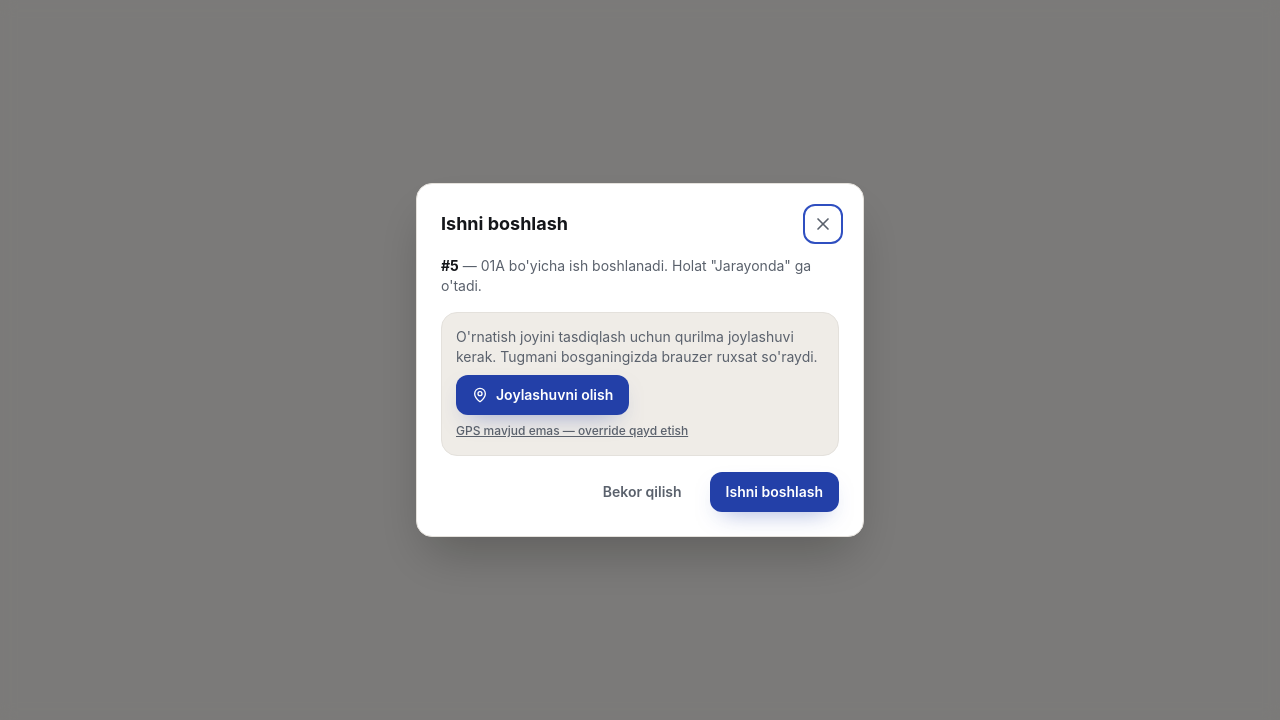
it: an authorized user records a GPS override WITH a reason
Click the button "GPS mavjud emas — override qayd etish": (572, 431) [456,423,688,439]
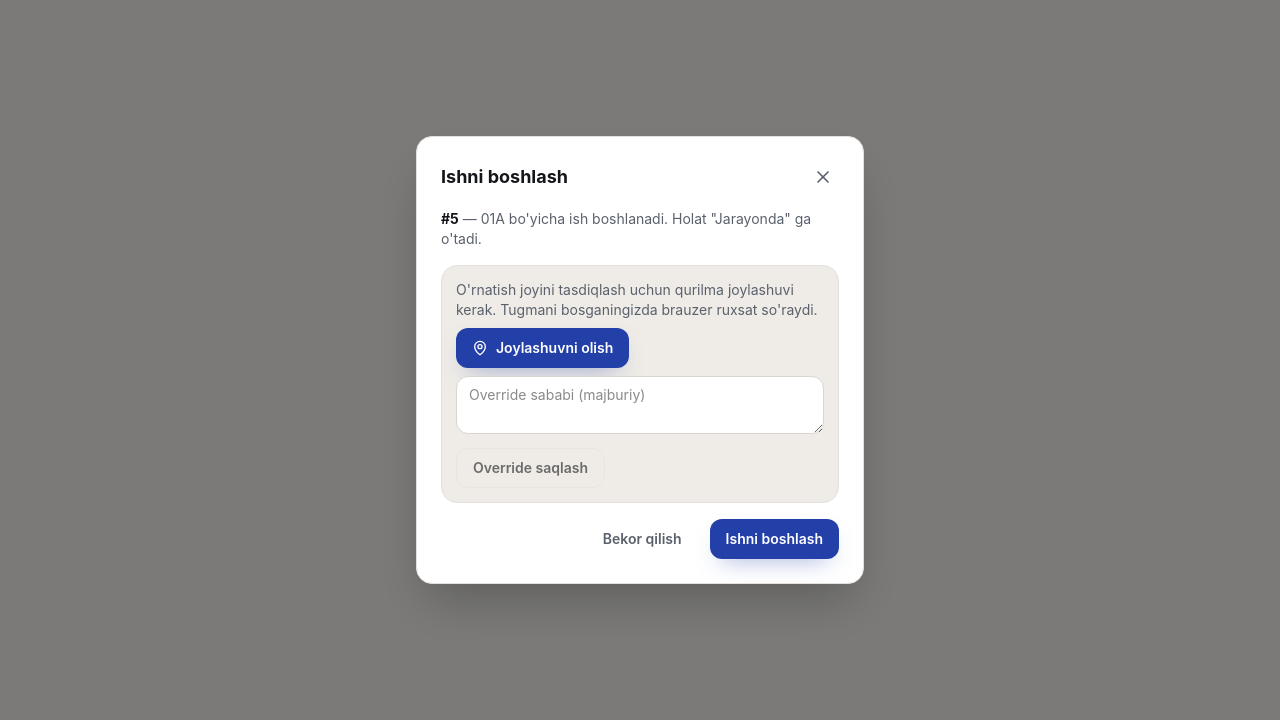
Expected: the button "Override saqlash" is disabled, [456,448,605,488]
In the text box with placeholder "Override sababi (majburiy)": (640, 405) [456,376,824,434], type "Yer osti signal yoq"
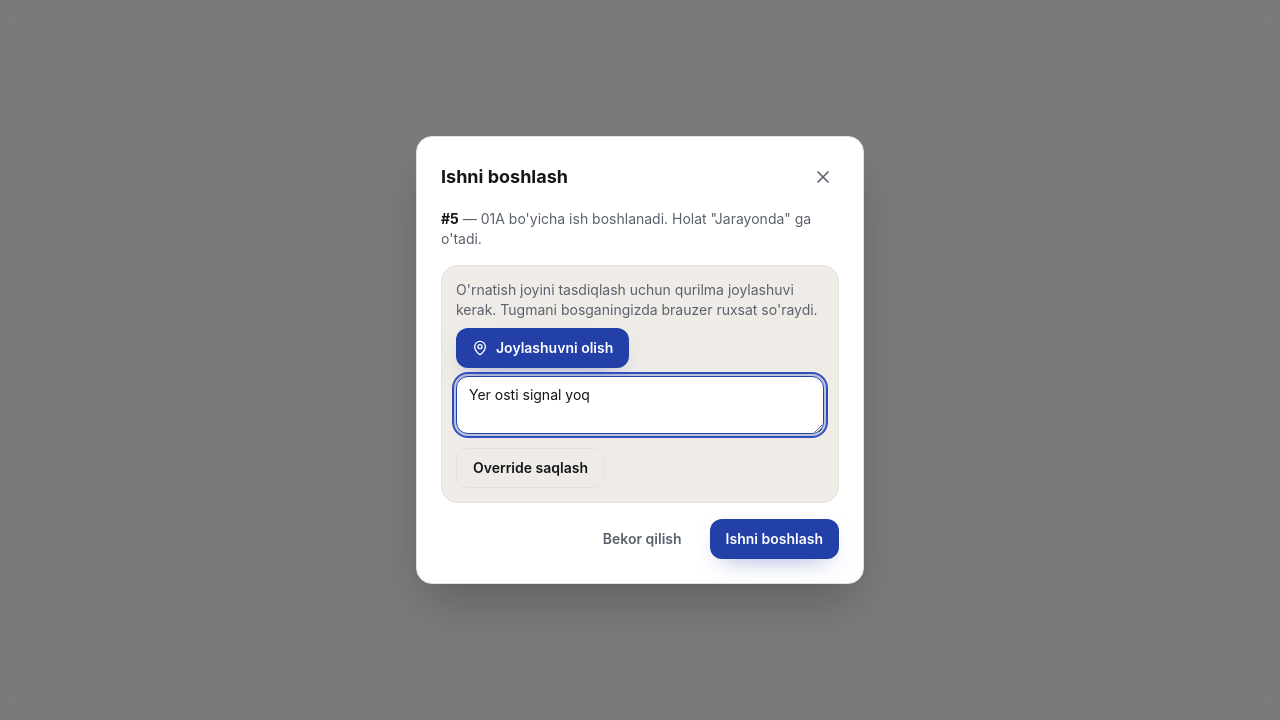
Expected: the button "Override saqlash" is enabled
Click the button "Override saqlash": (530, 468) [456,448,605,488]
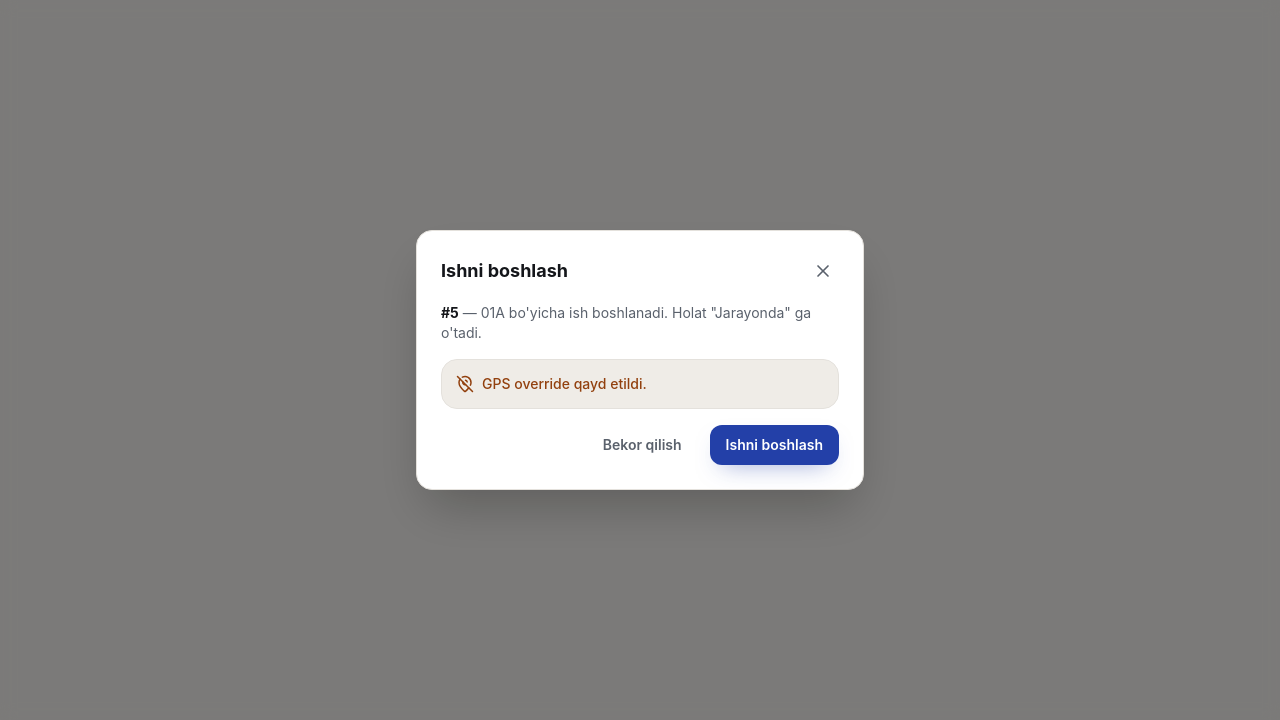
Expected: the text "GPS override qayd etildi." is shown, [456,375,647,393]
